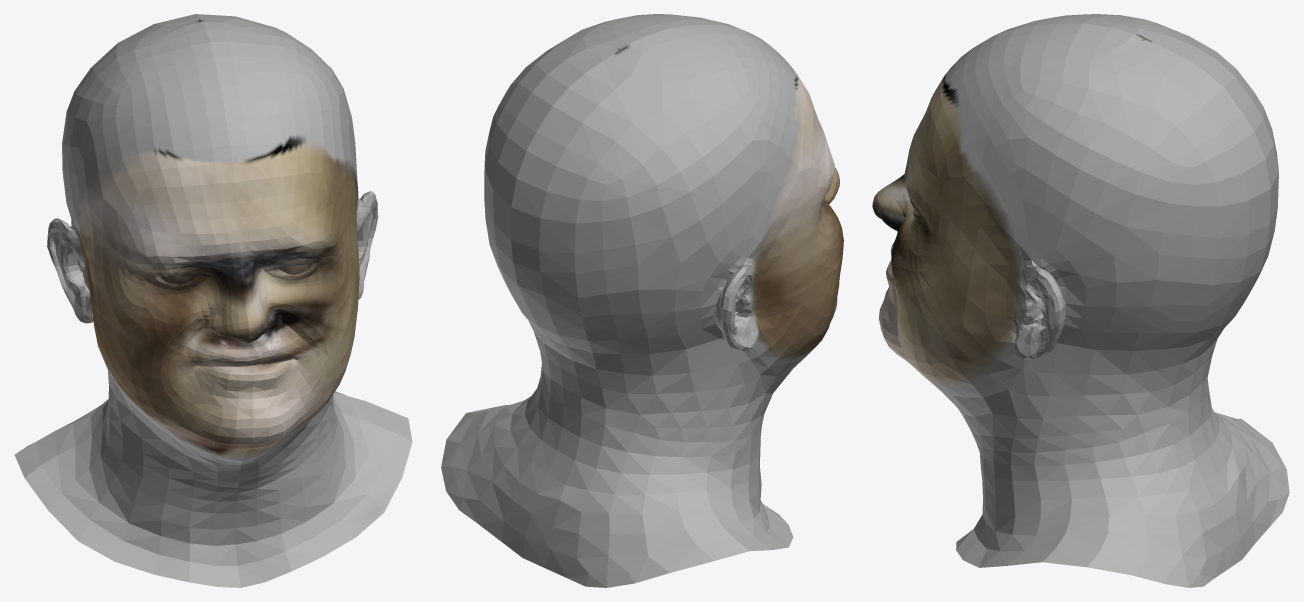
Rendered from ezgif-frame-086.obj.
The picture shows the model from 3 angles, left to right: view 1: azimuth 30°, elevation 25°; view 2: azimuth 150°, elevation 25°; view 3: azimuth 270°, elevation 25°; orthographic projection. The views are drawn at different scales.
Size of the model in its own units: 0.2176 by 0.3151 by 0.2283.
Materials: 1 (1 with a texture image).
